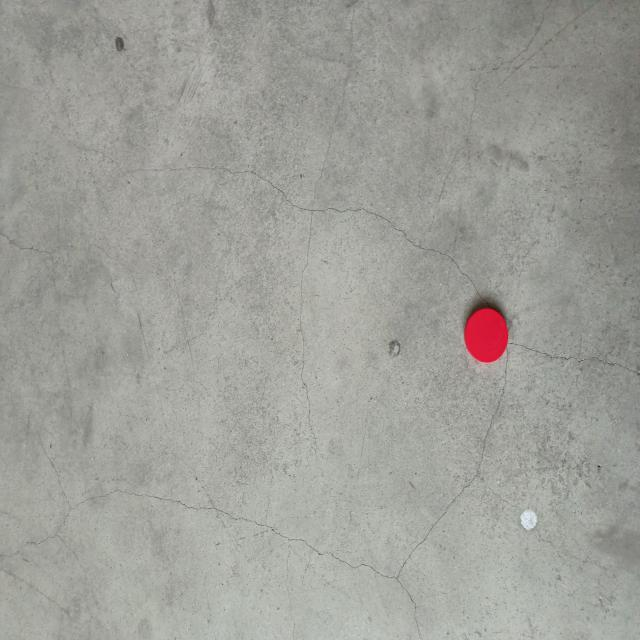chip: (463, 305, 509, 366)
